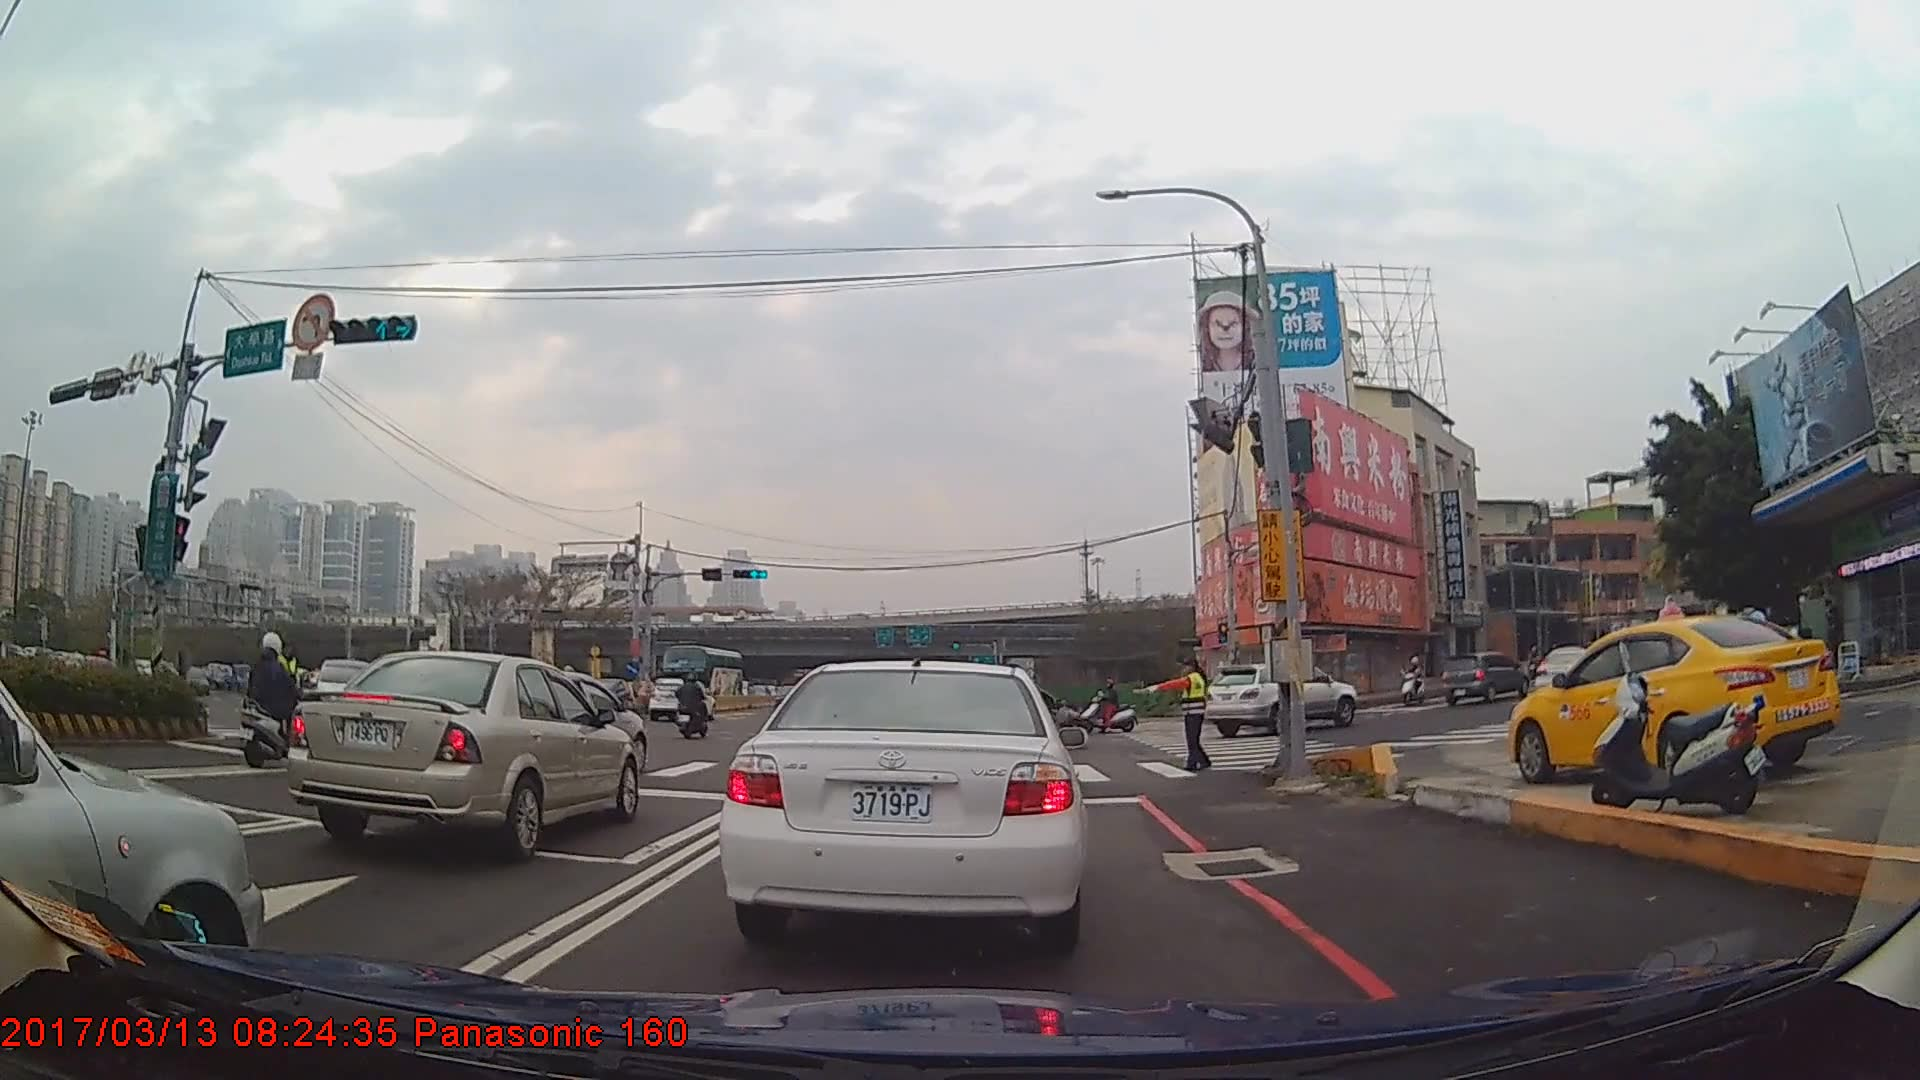pedestrian: (1132, 655, 1217, 776)
rider: (237, 628, 318, 767), (1082, 679, 1139, 734), (677, 674, 712, 739), (1400, 655, 1429, 706), (675, 677, 698, 733)
vehicle: (714, 654, 1087, 947), (289, 650, 640, 860), (1505, 608, 1838, 787), (1205, 660, 1356, 737), (1434, 650, 1525, 707), (660, 644, 742, 701), (1531, 644, 1602, 701), (646, 676, 713, 726)
